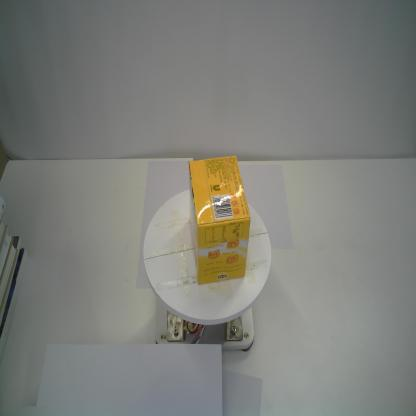Instant Drink: (188, 155, 252, 286)
